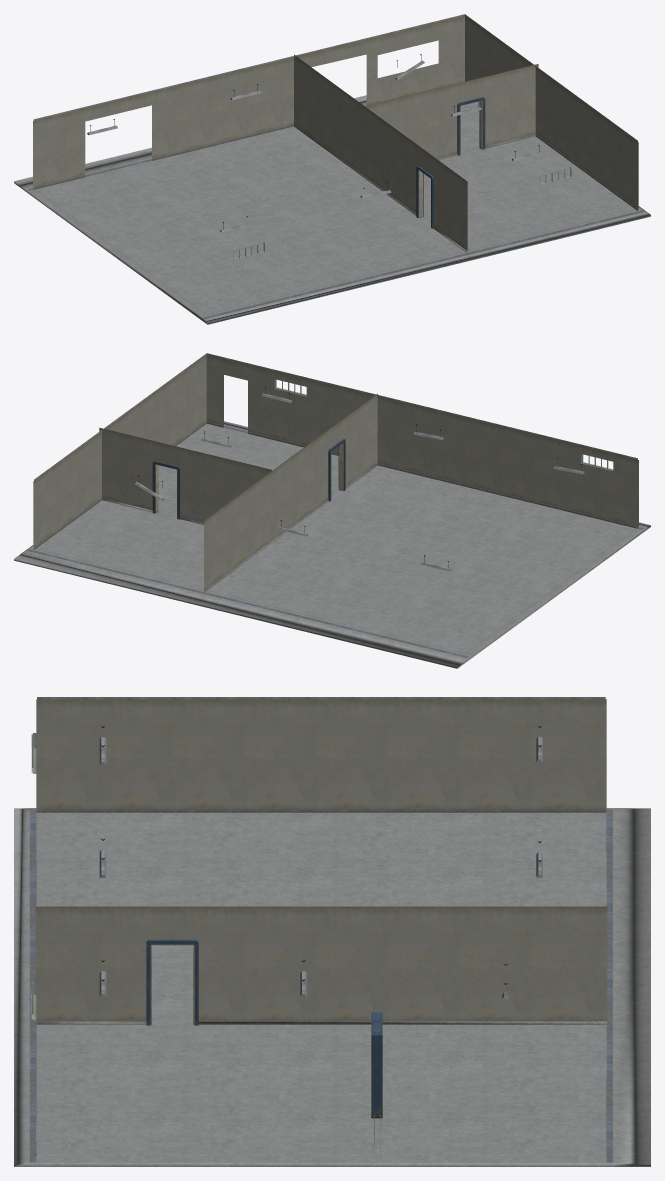
File: Building_WestGasStation002.glb
3 renders of one model, top to bottom at view 1: azimuth 30°, elevation 25°; view 2: azimuth 150°, elevation 25°; view 3: azimuth 270°, elevation 25°, orthographic. The views are drawn at different scales.
Parts seen in each view (by area): view 1: West_gas_station_002_0; view 2: West_gas_station_002_0; view 3: West_gas_station_002_0.
Part boxes in pixels (bbox=[...]): West_gas_station_002_0: bbox=[14, 14, 650, 324]; West_gas_station_002_0: bbox=[14, 353, 650, 668]; West_gas_station_002_0: bbox=[14, 697, 650, 1166].
Bounding box in the file's own units: 29.78 × 4.71 × 22.53.
Materials: 3 (3 with a texture image).
